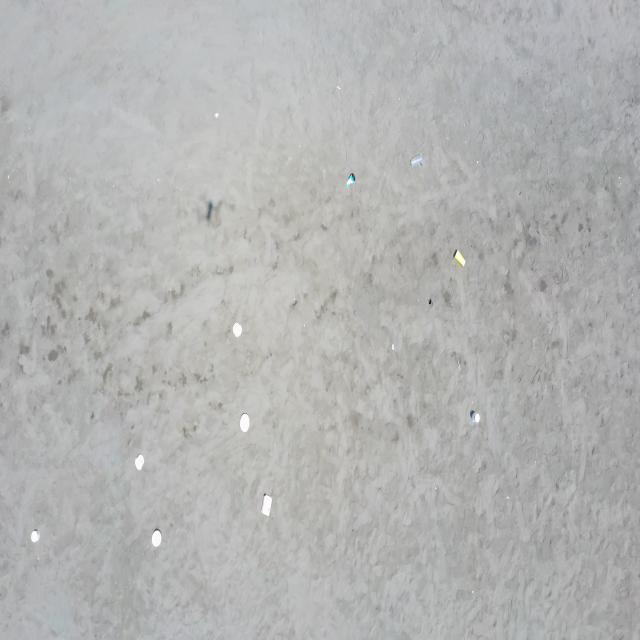take-away-containers: (261, 492, 273, 518), (240, 414, 252, 432), (134, 454, 146, 471), (152, 530, 162, 548), (233, 322, 244, 336), (30, 528, 40, 542)
takeaway-cup: (454, 249, 466, 268), (410, 153, 423, 167), (346, 173, 356, 188), (472, 412, 481, 425)
